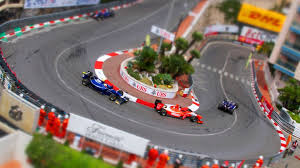FormulaOneCar: (78, 69, 134, 108), (150, 96, 206, 128), (88, 6, 119, 26), (216, 96, 240, 118)
